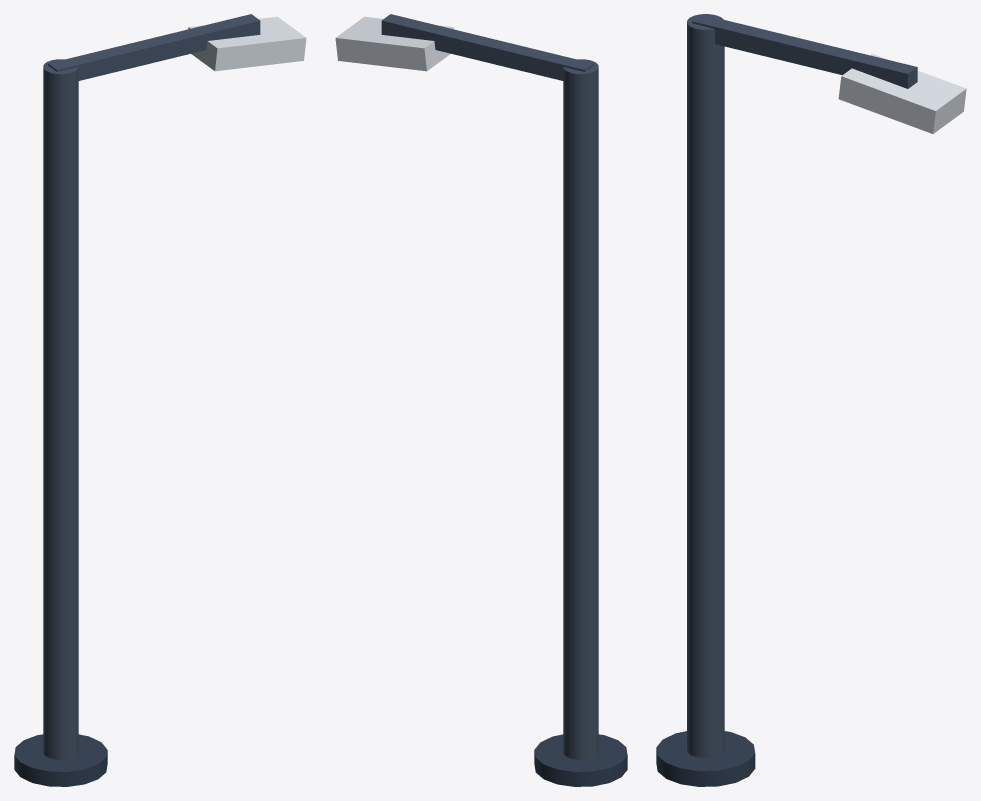
Rendered from streetlight.glb.
The picture shows the model from 3 angles, left to right: view 1: azimuth 30°, elevation 25°; view 2: azimuth 150°, elevation 25°; view 3: azimuth 330°, elevation 25°; orthographic projection. The views are drawn at different scales.
Size of the model in its own units: 2.27 by 5.61 by 0.68.
